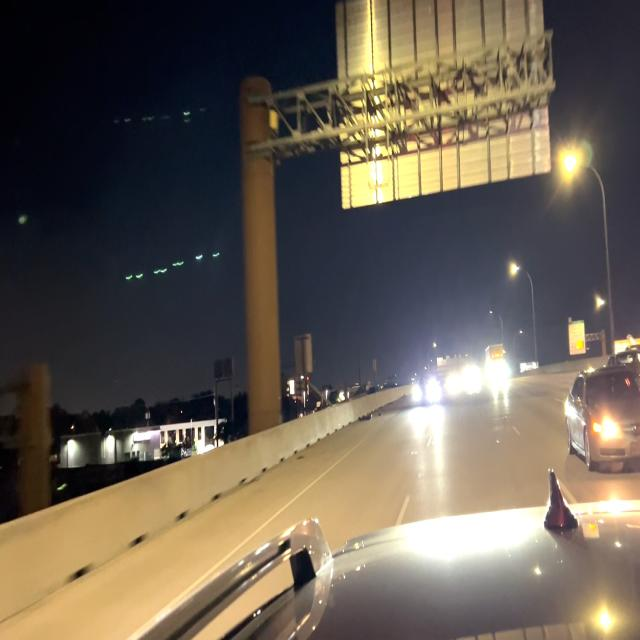back-of-sign: (332, 2, 554, 211), (295, 329, 314, 380)
